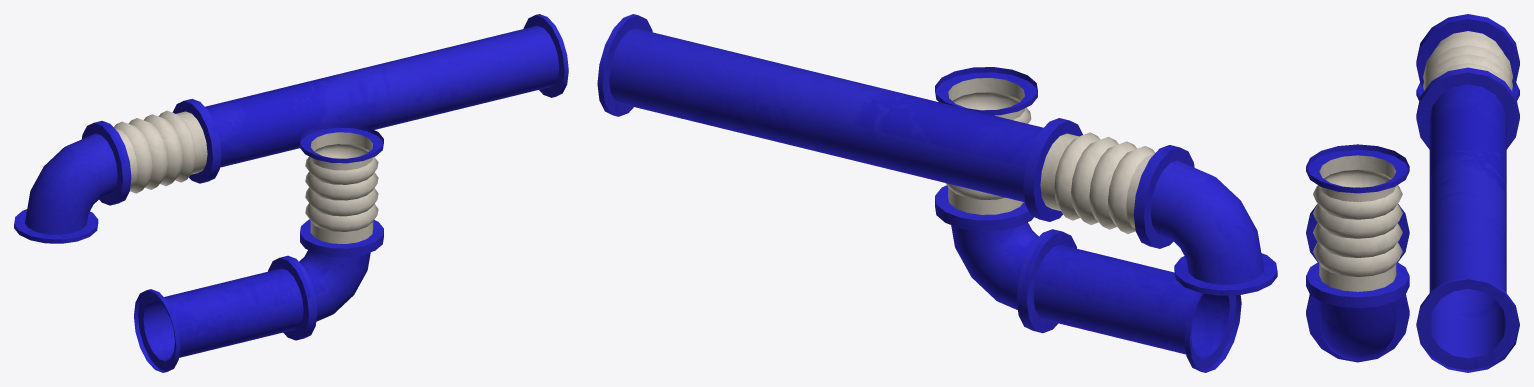
File: motorpipes.fbx
3 views of the same model, side by side, from view 1: azimuth 30°, elevation 25°; view 2: azimuth 150°, elevation 25°; view 3: azimuth 270°, elevation 25° (orthographic). The views are drawn at different scales.
Parts seen in each view (by area): view 1: MotorPipes; view 2: MotorPipes; view 3: MotorPipes.
Boxes of the visible parts, bbox=[...] form: MotorPipes: bbox=[14, 14, 568, 372]; MotorPipes: bbox=[597, 14, 1277, 372]; MotorPipes: bbox=[1306, 14, 1519, 372].
Size of the model in its own units: 3.09 by 1.19 by 0.8877.
